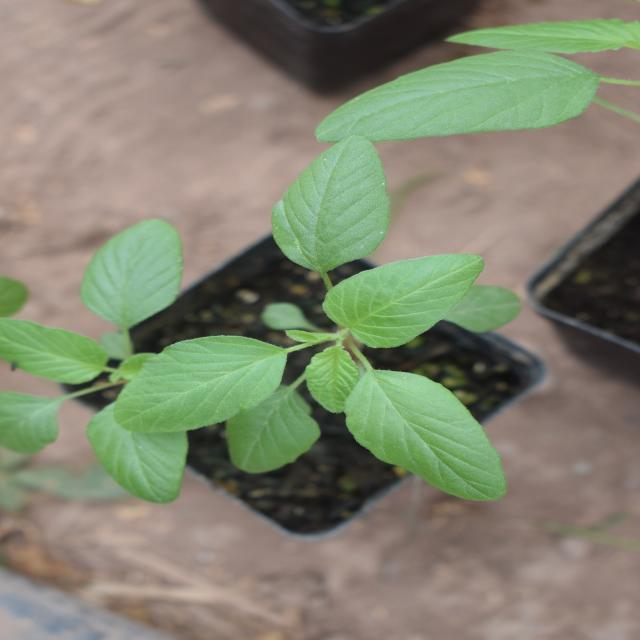pigweed: (146, 124, 522, 528)
